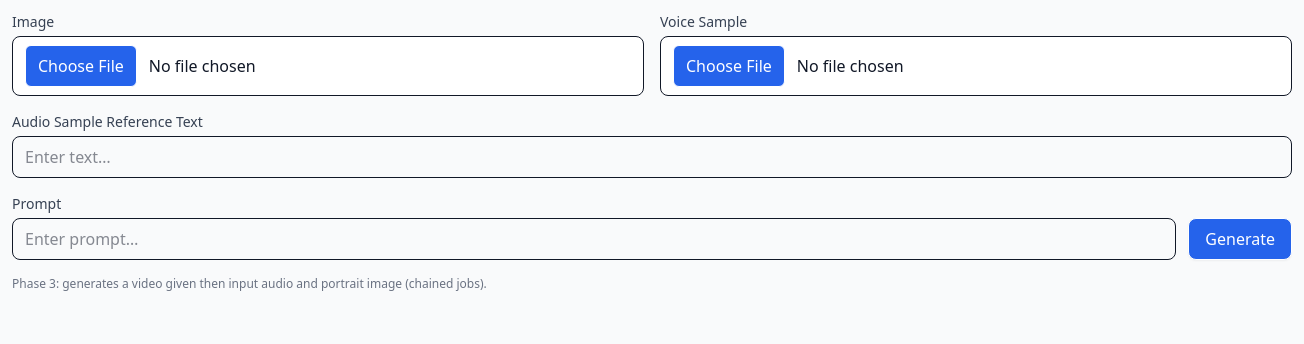
Test: UploadForm › shows error when no file selected
The image size is (1304, 344).
Click the button "Generate" at {"x": 1240, "y": 239}, box top-left (1188, 218), bottom-right (1292, 260)
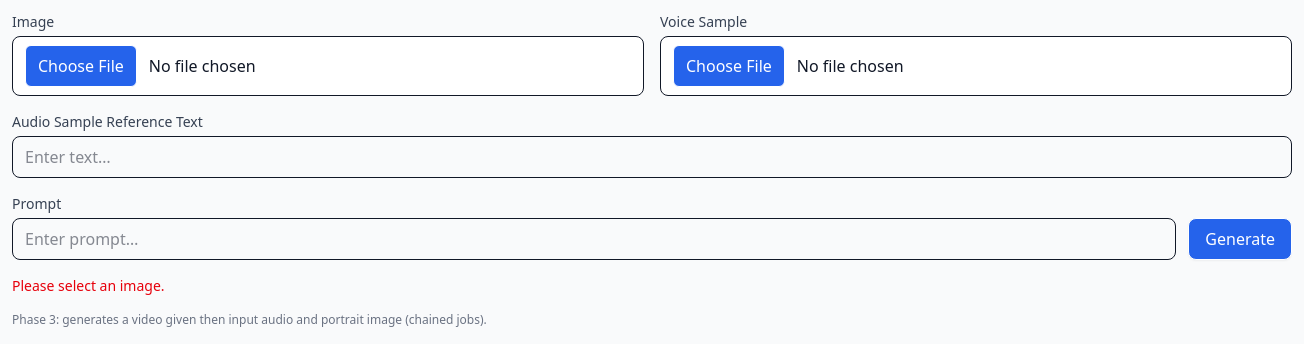
Check: the text "Please select an image." is shown, box top-left (12, 276), bottom-right (165, 295)
